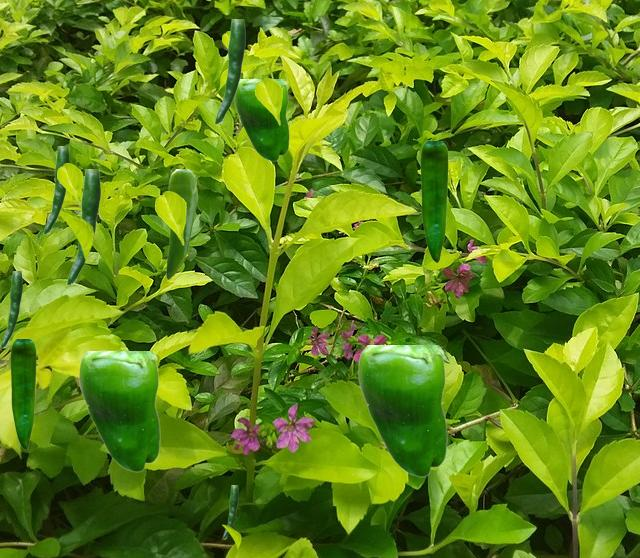green_chili: (357, 345, 446, 476), (78, 351, 159, 471), (233, 79, 288, 160), (66, 169, 99, 284), (166, 169, 196, 278), (420, 141, 447, 261), (214, 19, 244, 123), (10, 339, 35, 448), (43, 146, 68, 233), (0, 271, 21, 347), (222, 485, 237, 538)
